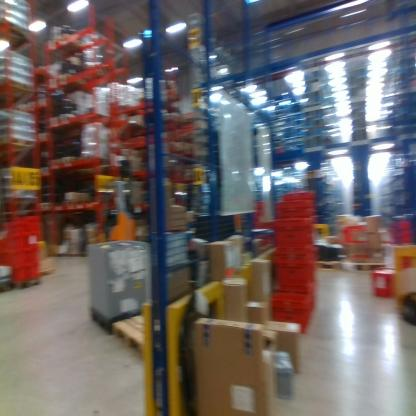forklift: (100, 151, 137, 250)
pallet: (109, 308, 179, 379), (334, 255, 387, 286), (3, 128, 38, 161), (310, 248, 344, 279), (13, 275, 45, 300), (2, 77, 38, 99)
small_load_carrier: (271, 211, 313, 261), (272, 251, 316, 294), (271, 286, 315, 329), (9, 261, 43, 287), (372, 265, 394, 299), (0, 216, 25, 237), (25, 212, 42, 239), (10, 246, 28, 265), (25, 247, 42, 266), (7, 234, 28, 249), (29, 232, 47, 249)
